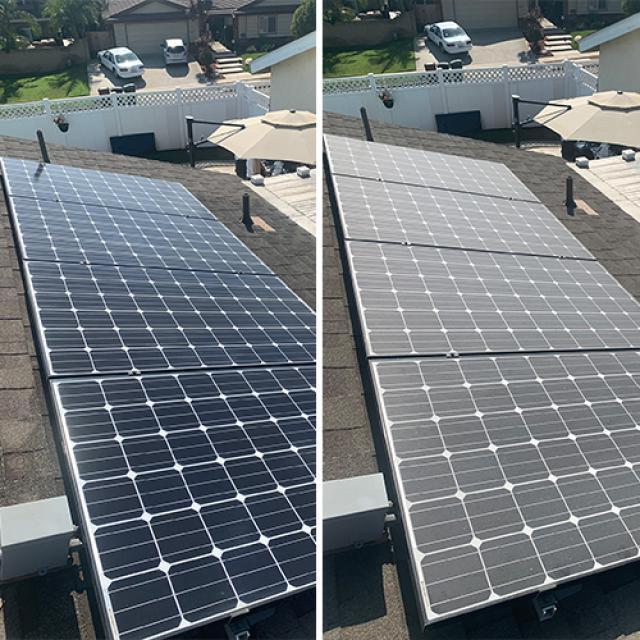faulty: (330, 138, 638, 603)
no faulty: (3, 166, 314, 638)
